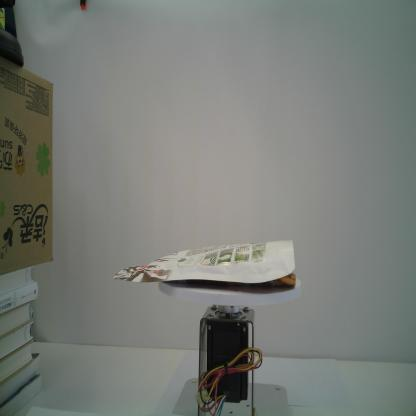Dried Fruit: (113, 238, 297, 289)
